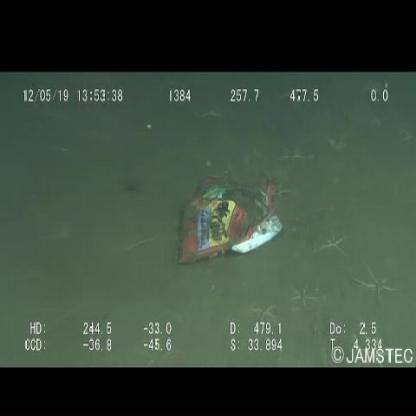Rác: (174, 168, 288, 272)
